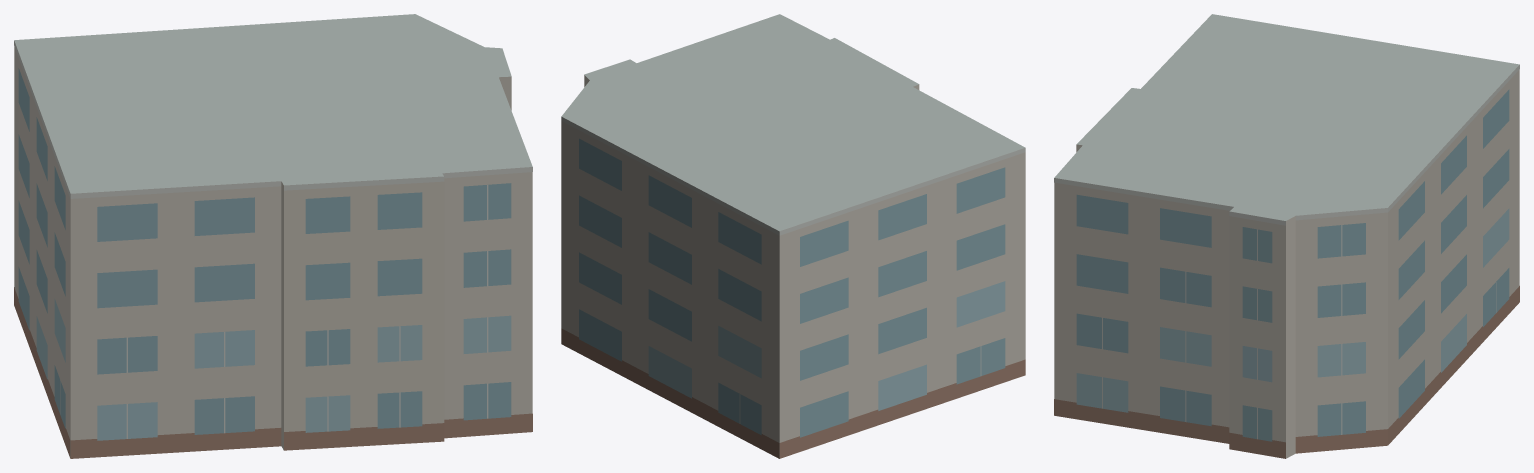
The model's file is survey-upis-32984683.glb.
3 renders of one model, left to right at view 1: azimuth 30°, elevation 25°; view 2: azimuth 150°, elevation 25°; view 3: azimuth 270°, elevation 25°, orthographic. The views are drawn at different scales.
Visible parts, largest first — view 1: survey-upis-32984683.tmp; view 2: survey-upis-32984683.tmp; view 3: survey-upis-32984683.tmp.
Part boxes in pixels (x1,y1,x2,y2): survey-upis-32984683.tmp: (14,14,532,458); survey-upis-32984683.tmp: (561,14,1025,458); survey-upis-32984683.tmp: (1054,14,1519,458).
Size of the model in its own units: 23.36 by 12.5 by 22.19.
